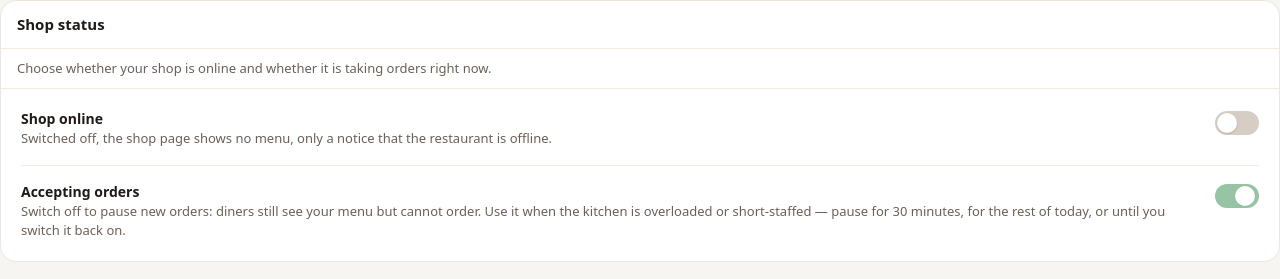
ShopStatusCard online switch › closes on Escape and on an outside pointerdown
Click the switch named "Shop online" in the row of "Shop online": click(1237, 123) [1215,111,1259,135]
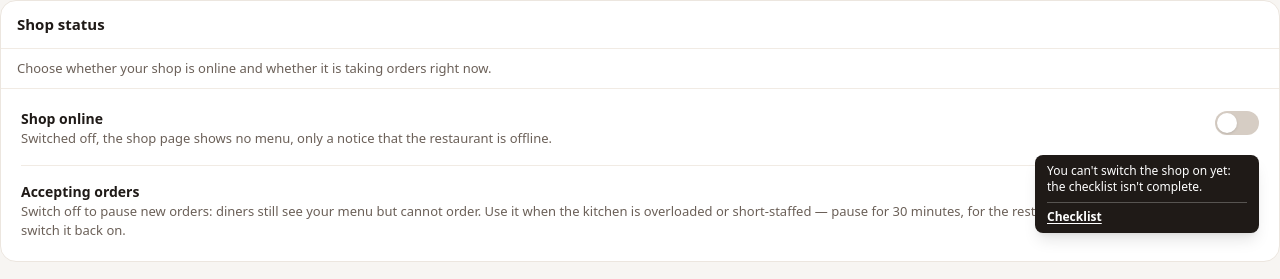
expect the message "You can't switch the shop on yet: the checklist isn't complete. Checklist" is shown: met, box [1035,154,1259,233]
Press Escape
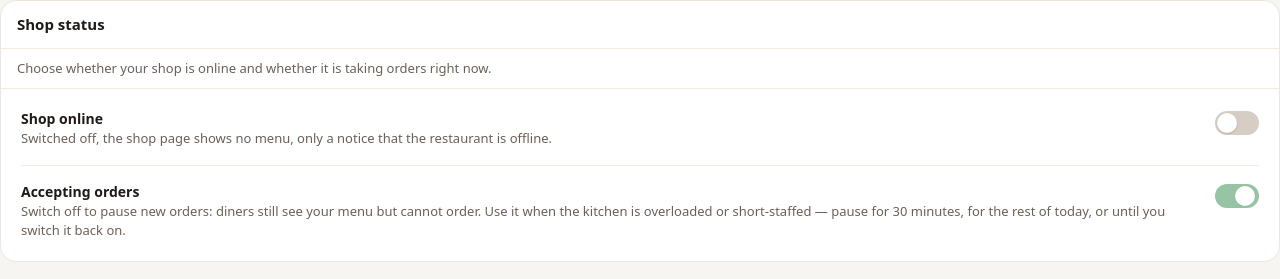
expect the message "You can't switch the shop on yet: the checklist isn't complete. Checklist" is gone: met
Click the switch named "Shop online" in the row of "Shop online": click(1237, 123) [1215,111,1259,135]
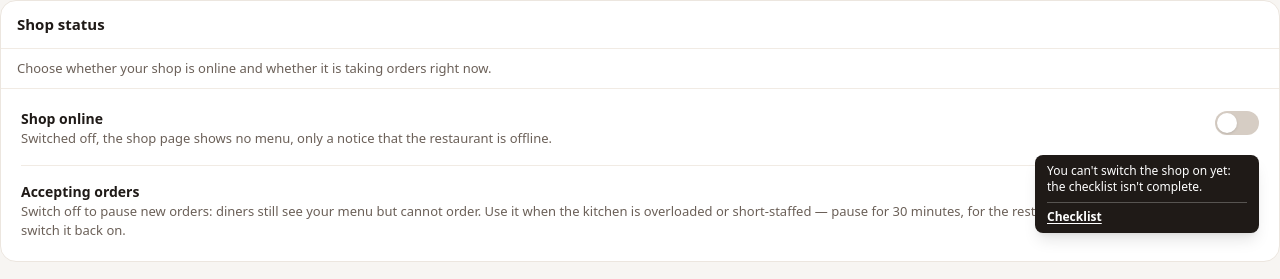
expect the message "You can't switch the shop on yet: the checklist isn't complete. Checklist" is shown: met, box [1035,154,1259,233]
Press the mouse on the switch named "Shop online": (1237, 123) [1215,111,1259,135]
expect the message "You can't switch the shop on yet: the checklist isn't complete. Checklist" is shown: met, box [1035,154,1259,233]
Press the mouse on the element that starts with "Shop status": (640, 131) [0,0,1279,262]
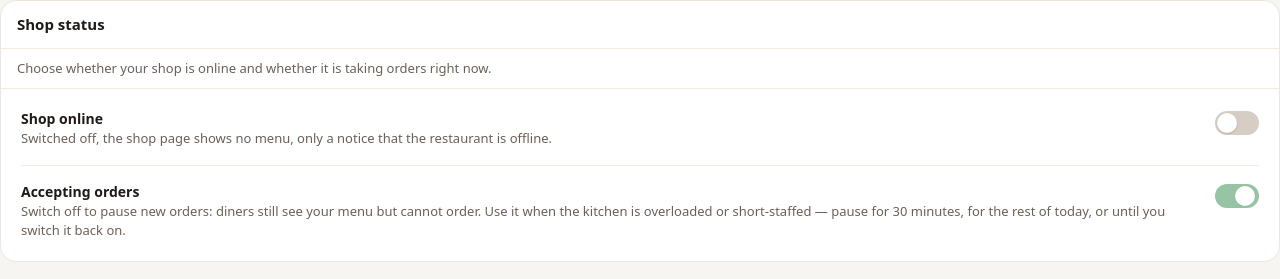
expect the message "You can't switch the shop on yet: the checklist isn't complete. Checklist" is gone: met
